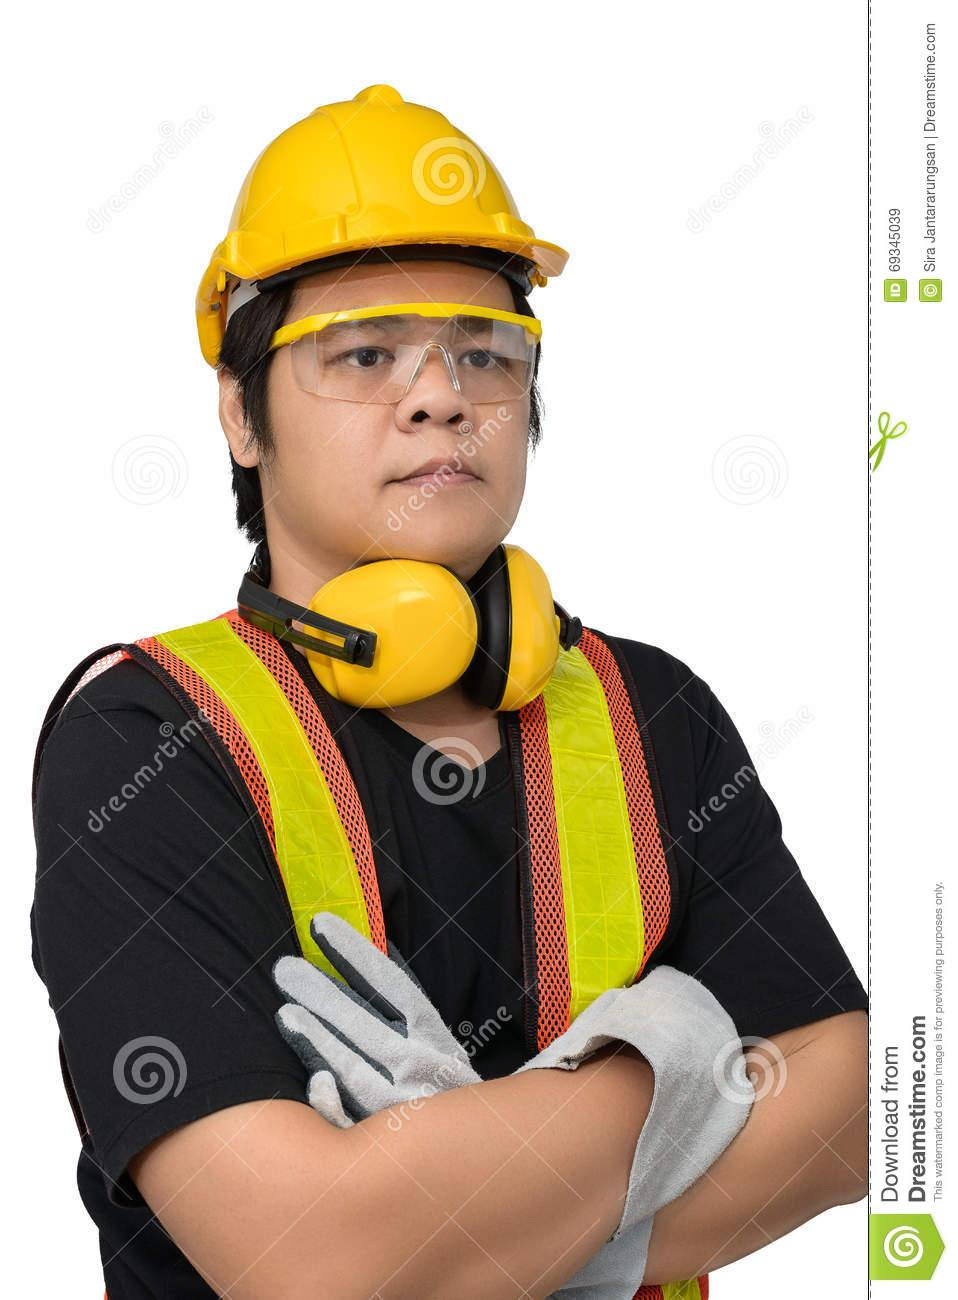helmet: (193, 84, 563, 357)
